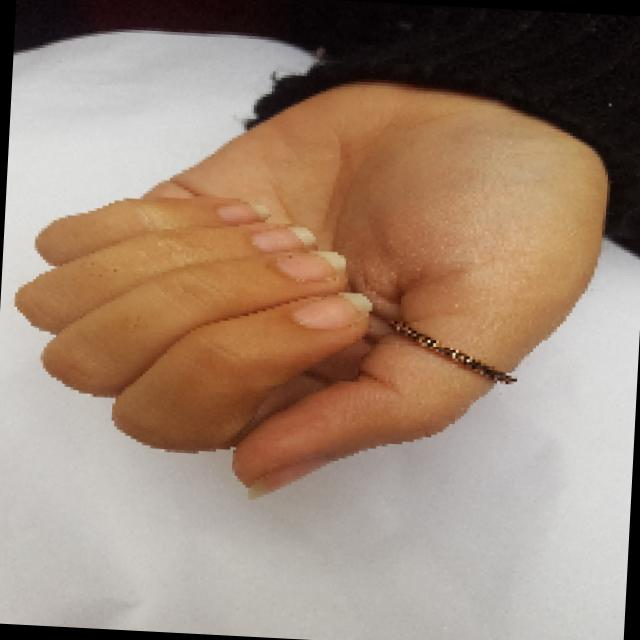Nail: (248, 461, 329, 499), (293, 292, 372, 329), (275, 251, 347, 280), (253, 227, 316, 252), (218, 204, 269, 223)
